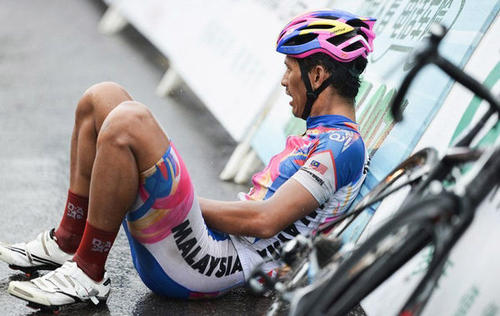fall: (1, 4, 384, 308)
